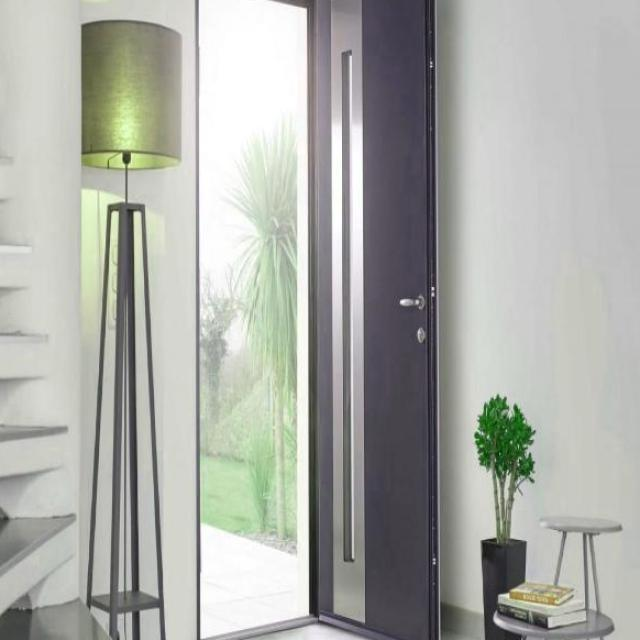door: (310, 0, 439, 639)
